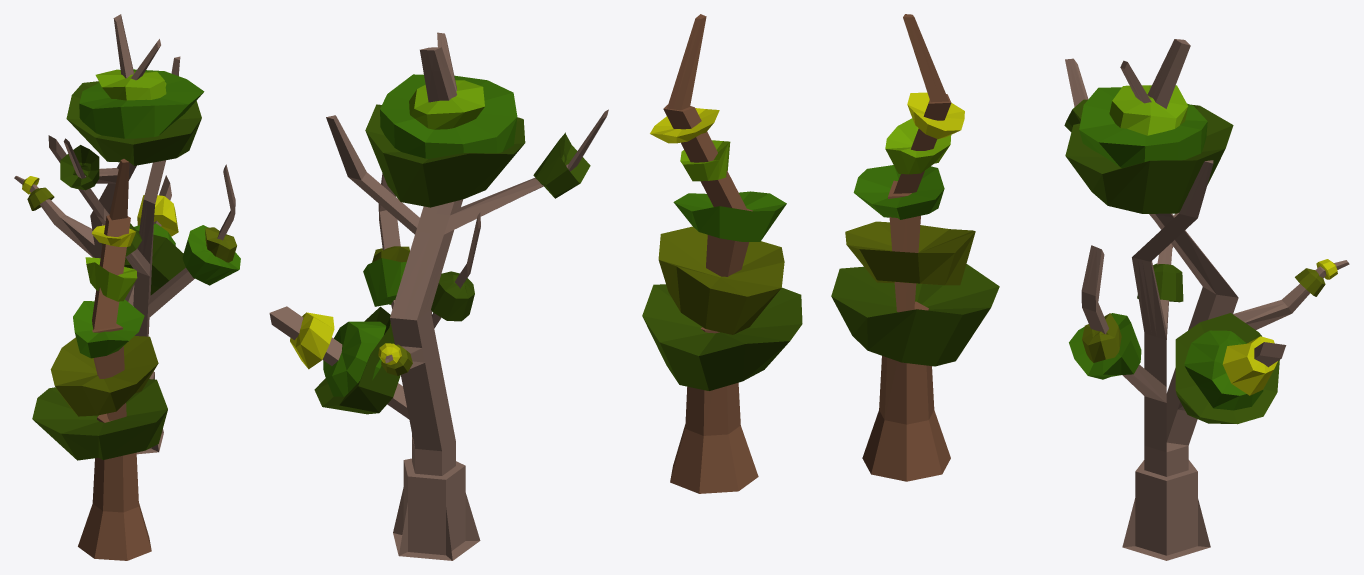
Rendered from Tree_2.fbx.
3 views of the same model, side by side, from view 1: azimuth 30°, elevation 25°; view 2: azimuth 150°, elevation 25°; view 3: azimuth 270°, elevation 25° (orthographic). The views are drawn at different scales.
Visible parts, largest first — view 1: group1_pasted__group_pasted__pasted__pCylinder2, pasted__pasted__pasted__pasted__pasted__pCylinder2; view 2: group1_pasted__group_pasted__pasted__pCylinder2, pasted__pasted__pasted__pasted__pasted__pCylinder2; view 3: group1_pasted__group_pasted__pasted__pCylinder2, pasted__pasted__pasted__pasted__pasted__pCylinder2.
Part boxes in pixels (box(x1,y1,x2,y2)): group1_pasted__group_pasted__pasted__pCylinder2: box(14, 14, 240, 454); pasted__pasted__pasted__pasted__pasted__pCylinder2: box(32, 159, 167, 560); group1_pasted__group_pasted__pasted__pCylinder2: box(269, 32, 608, 560); pasted__pasted__pasted__pasted__pasted__pCylinder2: box(642, 14, 802, 493); group1_pasted__group_pasted__pasted__pCylinder2: box(1064, 39, 1349, 560); pasted__pasted__pasted__pasted__pasted__pCylinder2: box(831, 14, 999, 481).
Bounding box in the file's own units: 21.28 × 29.95 × 28.35.
